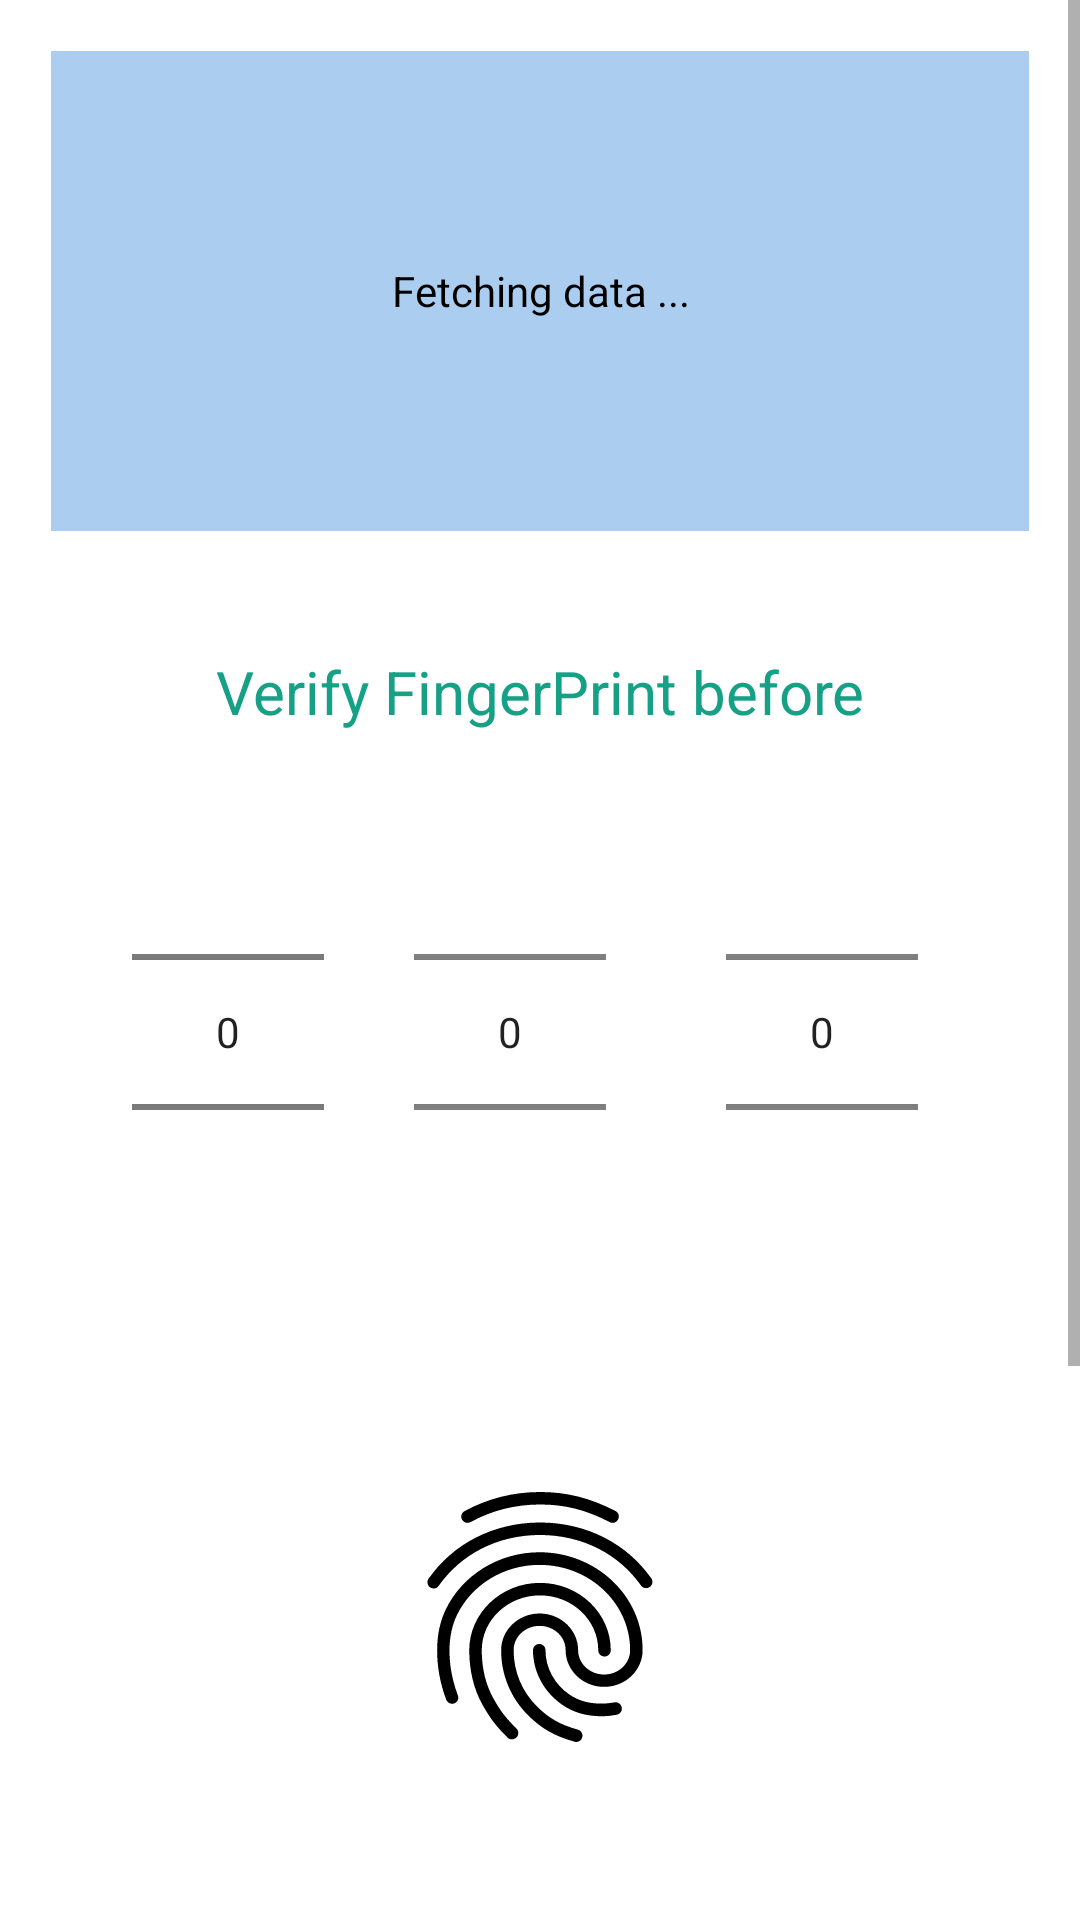

Icon click points for this 1080 x 1920 phone screenshot, format (x=x, y=y):
fingerprint: (x=540, y=1617)
